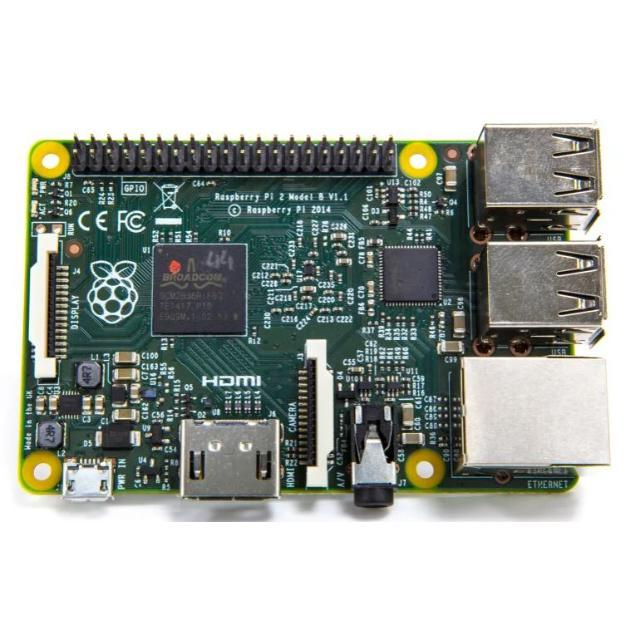Raspberry-Pi-2-B: (22, 125, 609, 508)
